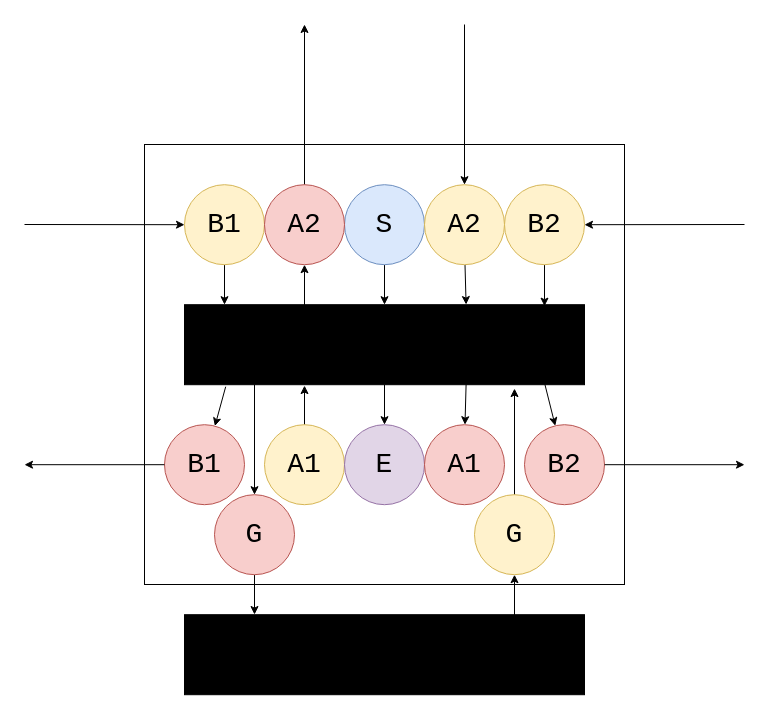
This 770x713 diagram has some shape labels left out. The shapes that lost their labels are listed below. From the top down, each one's centre as x and y in pixels, then its label:
At point 384,344: "Da".
At point 384,654: "Global".
